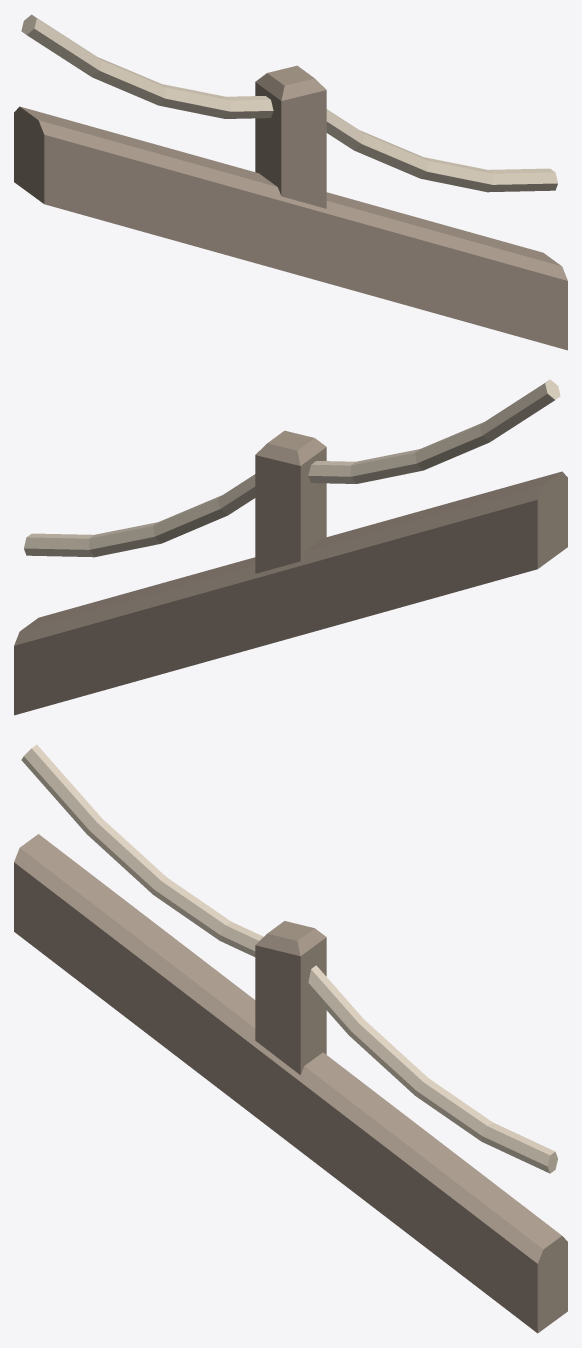
The model's file is Wood_Rope_Stairs.glb.
3 views of the same model, one above another, from view 1: azimuth 30°, elevation 25°; view 2: azimuth 150°, elevation 25°; view 3: azimuth 330°, elevation 25° (orthographic).
Parts seen in each view (by area): view 1: object1, object3, object4, object2; view 2: object1, object3, object4, object2; view 3: object1, object3, object2, object4.
Boxes of the visible parts, box(x1,y1,x2,y2) form: object1: box(14, 106, 567, 350); object3: box(255, 65, 326, 208); object4: box(21, 14, 273, 118); object2: box(326, 109, 557, 192); object1: box(14, 471, 567, 715); object3: box(255, 430, 326, 573); object4: box(308, 379, 560, 483); object2: box(24, 474, 255, 557); object1: box(14, 834, 567, 1333); object3: box(255, 921, 326, 1074); object2: box(308, 965, 557, 1173); object4: box(21, 744, 263, 956).
Bounding box in the file's own units: 2.02 × 1.64 × 0.2.
